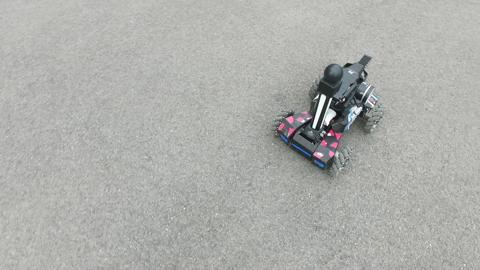chariot: (272, 52, 384, 177)
